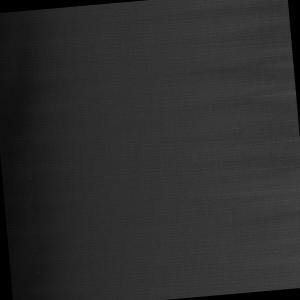Wrinkle: (155, 1, 300, 274), (1, 7, 102, 300)
